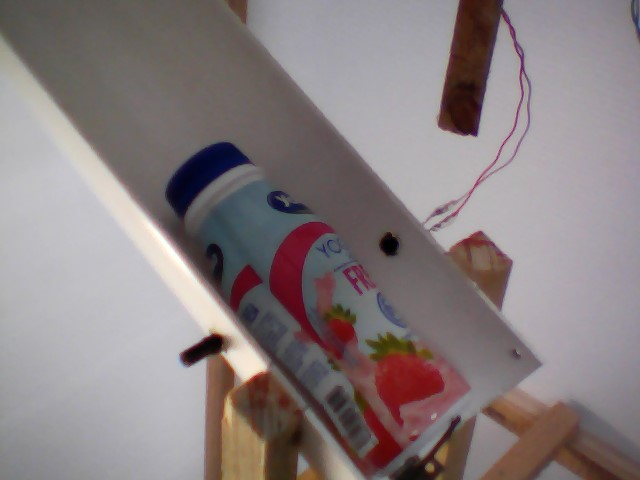plastico: (159, 140, 492, 480)
